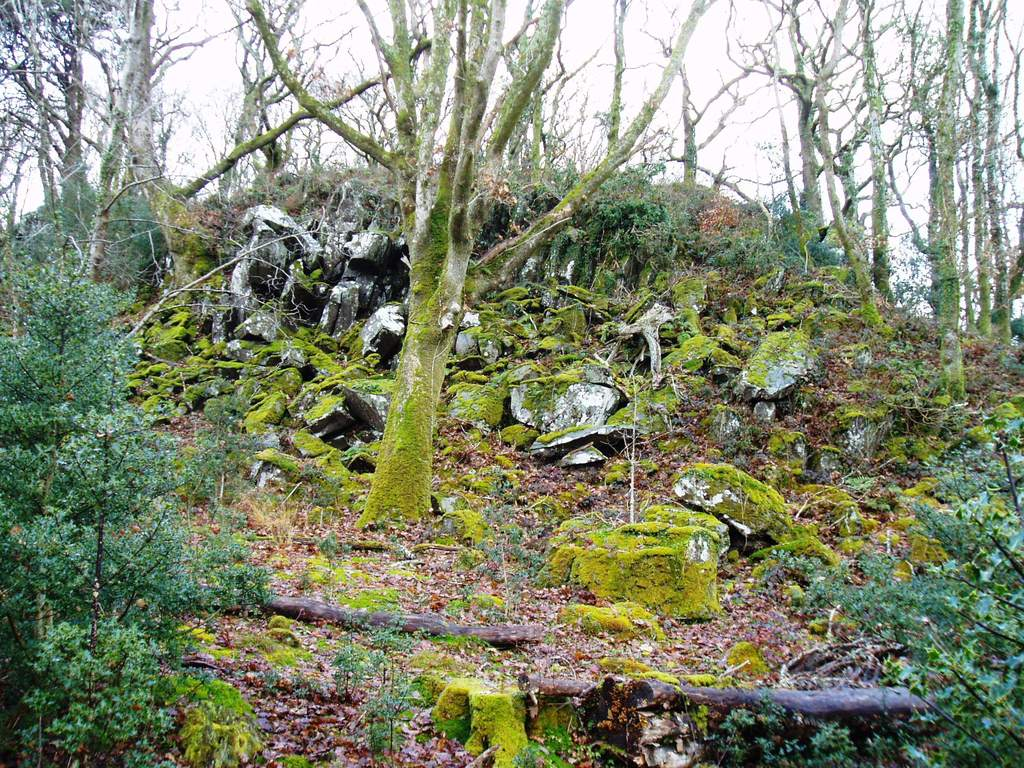Tree: (240, 0, 725, 503), (719, 3, 876, 283), (1, 0, 134, 300), (916, 0, 1023, 350), (81, 12, 208, 282), (227, 0, 344, 225), (847, 0, 933, 215), (657, 0, 724, 189), (585, 0, 638, 155)
